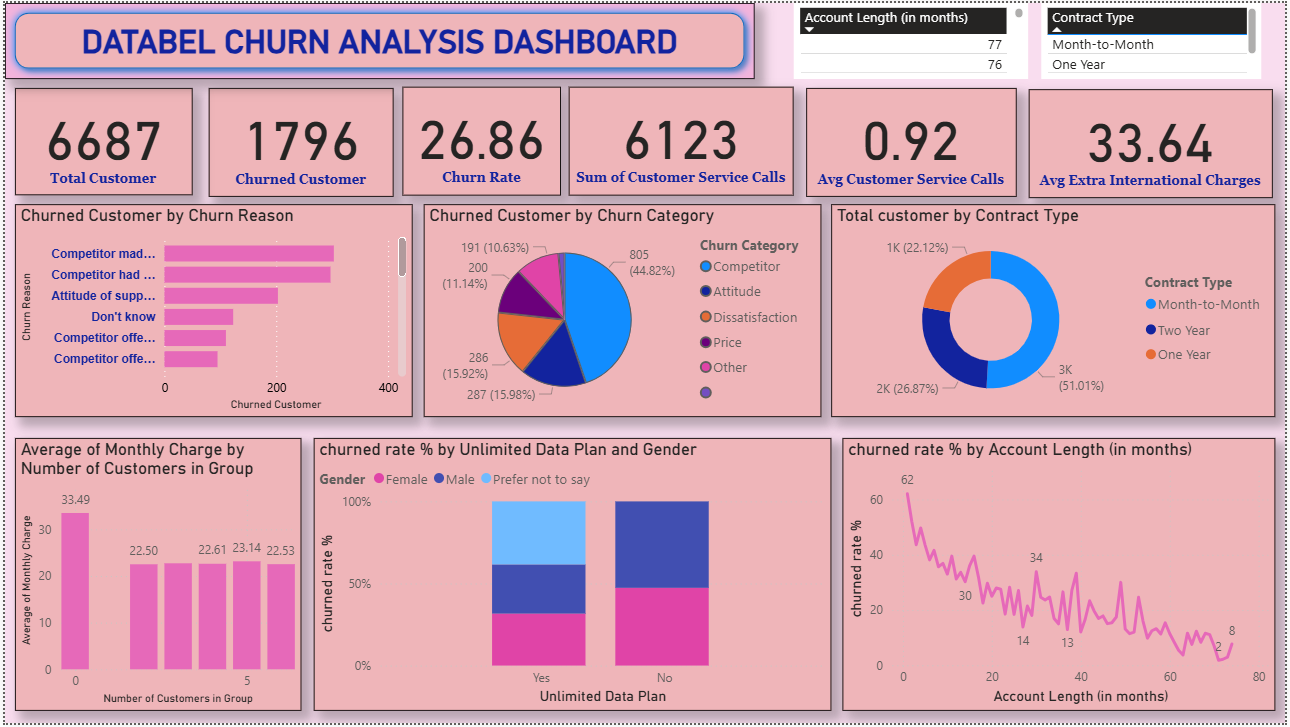

This screenshot's page, from the dashboard's own definition file:
{"tool":"powerbi","page":{"name":"Page 1","canvas":[1280,720],"ordinal":0},"visuals":[{"type":"card","fields":{"Values":["Databel - Data.Number of churned customer"]},"box":[203.8,85,185,108.8],"z":0},{"type":"card","fields":{"Values":["CountNonNull(Databel - Data.Churn Label)"]},"box":[10,85,177.5,107.5],"z":1000},{"type":"shape","box":[0,0,749.6,75.8],"z":2000},{"type":"card","fields":{"Values":["Databel - Data.churned rate %"]},"box":[397.5,83.8,158.8,108.8],"z":3000},{"type":"card","fields":{"Values":["Databel - Data.Sum of Customer Service Calls"]},"box":[563.8,83.8,225,108.8],"z":4000},{"type":"card","fields":{"Values":["Databel - Data.Avg Customer Service Calls"]},"box":[801.2,85,210,108.8],"z":5000},{"type":"card","fields":{"Values":["Databel - Data.Avg Extra International Charges"]},"box":[1023.8,86.2,243.8,108.8],"z":6000},{"type":"tableEx","fields":{"Values":["Databel - Data.Account Length (in months)"]},"box":[788.7,0,234.8,75.8],"z":7000},{"type":"tableEx","fields":{"Values":["Databel - Data.Contract Type"]},"box":[1035.7,0,220.1,75.8],"z":8000},{"type":"barChart","fields":{"Y":["Databel - Data.Churned Customer"],"Category":["Databel - Data.Churn Reason"]},"box":[10,201.2,397.5,212.5],"z":9000},{"type":"pieChart","fields":{"Y":["Databel - Data.Churned Customer"],"Category":["Databel - Data.Churn Category"]},"box":[418.8,201.2,397.5,212.5],"z":10000},{"type":"donutChart","fields":{"Category":["Databel - Data.Contract Type"],"Y":["Databel - Data.total customer"]},"box":[826.2,201.2,443.8,212.5],"z":11000},{"type":"columnChart","fields":{"Y":["Avg(Databel - Data.Monthly Charge)"],"Category":["Databel - Data.Number of Customers in Group"]},"box":[10,435,286.2,272.5],"z":12000},{"type":"hundredPercentStackedColumnChart","fields":{"Y":["Databel - Data.churned rate %"],"Category":["Databel - Data.Unlimited Data Plan"],"Series":["Databel - Data.Gender"]},"box":[308.8,435,517.5,272.5],"z":13000},{"type":"lineChart","fields":{"Category":["Databel - Data.Account Length (in months)"],"Y":["Databel - Data.churned rate %"]},"box":[837.5,435,432.5,272.5],"z":14000}]}

Visuals, with their boxes in screenshot pixels (x1, y1, x2, y2), scaled from the page's 1280x720 canvas onto the 1290x727 screenshot:
card - Databel - Data.Number of churned customer: {"left": 205, "top": 86, "right": 392, "bottom": 196}
card - CountNonNull(Databel - Data.Churn Label): {"left": 10, "top": 86, "right": 189, "bottom": 194}
shape: {"left": 0, "top": 0, "right": 755, "bottom": 77}
card - Databel - Data.churned rate %: {"left": 401, "top": 85, "right": 561, "bottom": 194}
card - Databel - Data.Sum of Customer Service Calls: {"left": 568, "top": 85, "right": 795, "bottom": 194}
card - Databel - Data.Avg Customer Service Calls: {"left": 807, "top": 86, "right": 1019, "bottom": 196}
card - Databel - Data.Avg Extra International Charges: {"left": 1032, "top": 87, "right": 1278, "bottom": 197}
tableEx - Databel - Data.Account Length (in months): {"left": 795, "top": 0, "right": 1031, "bottom": 77}
tableEx - Databel - Data.Contract Type: {"left": 1044, "top": 0, "right": 1266, "bottom": 77}
barChart - Databel - Data.Churned Customer x Databel - Data.Churn Reason: {"left": 10, "top": 203, "right": 411, "bottom": 418}
pieChart - Databel - Data.Churned Customer x Databel - Data.Churn Category: {"left": 422, "top": 203, "right": 823, "bottom": 418}
donutChart - Databel - Data.Contract Type x Databel - Data.total customer: {"left": 833, "top": 203, "right": 1280, "bottom": 418}
columnChart - Avg(Databel - Data.Monthly Charge) x Databel - Data.Number of Customers in Group: {"left": 10, "top": 439, "right": 299, "bottom": 714}
hundredPercentStackedColumnChart - Databel - Data.churned rate % x Databel - Data.Unlimited Data Plan: {"left": 311, "top": 439, "right": 833, "bottom": 714}
lineChart - Databel - Data.Account Length (in months) x Databel - Data.churned rate %: {"left": 844, "top": 439, "right": 1280, "bottom": 714}
